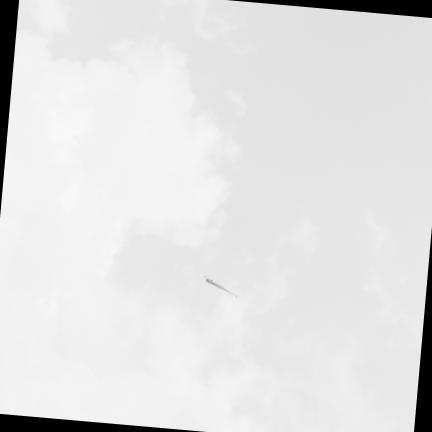Shahed: (204, 277, 236, 296)
